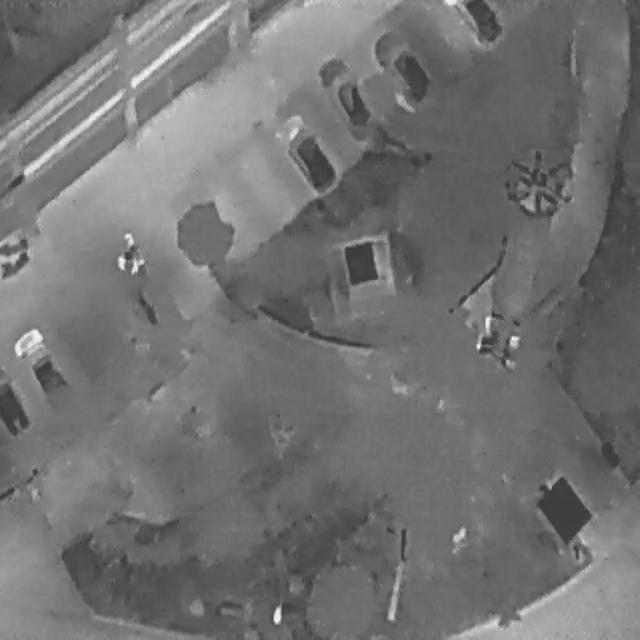Bicycle: (0, 246, 31, 279), (0, 234, 27, 254)
Car: (267, 102, 342, 204), (365, 14, 440, 115), (310, 45, 382, 144), (6, 318, 73, 412), (445, 0, 504, 45), (0, 365, 30, 439)
Person: (128, 255, 145, 276), (114, 250, 126, 271), (122, 228, 134, 248)
